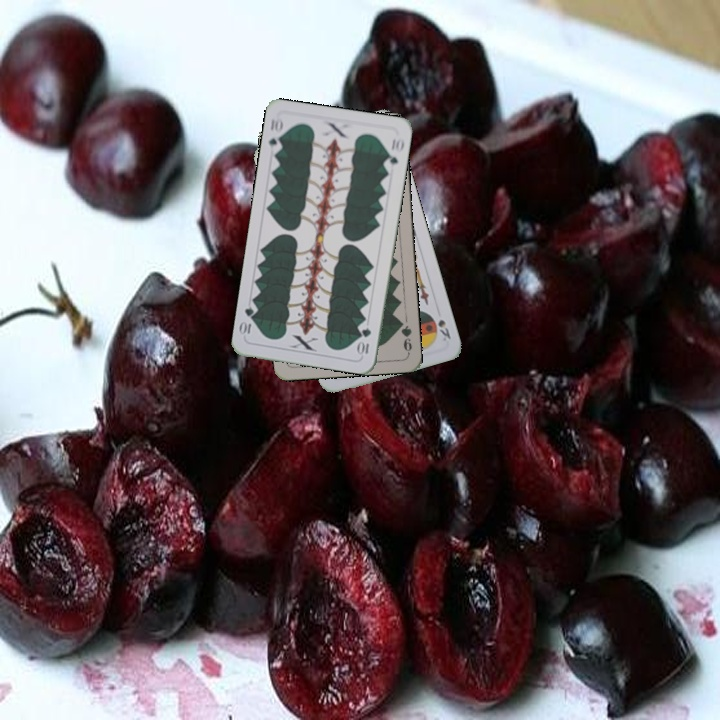G10: (265, 113, 286, 155), (355, 323, 374, 358)
G9: (395, 316, 414, 356)
SK: (434, 315, 453, 342)
